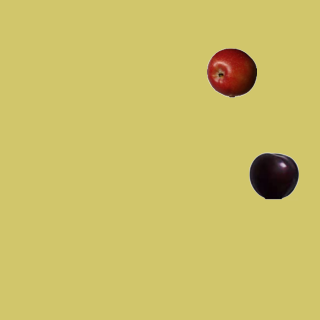Apple Braeburn: (206, 47, 256, 97)
Cherry Wax Black: (248, 150, 298, 200)
